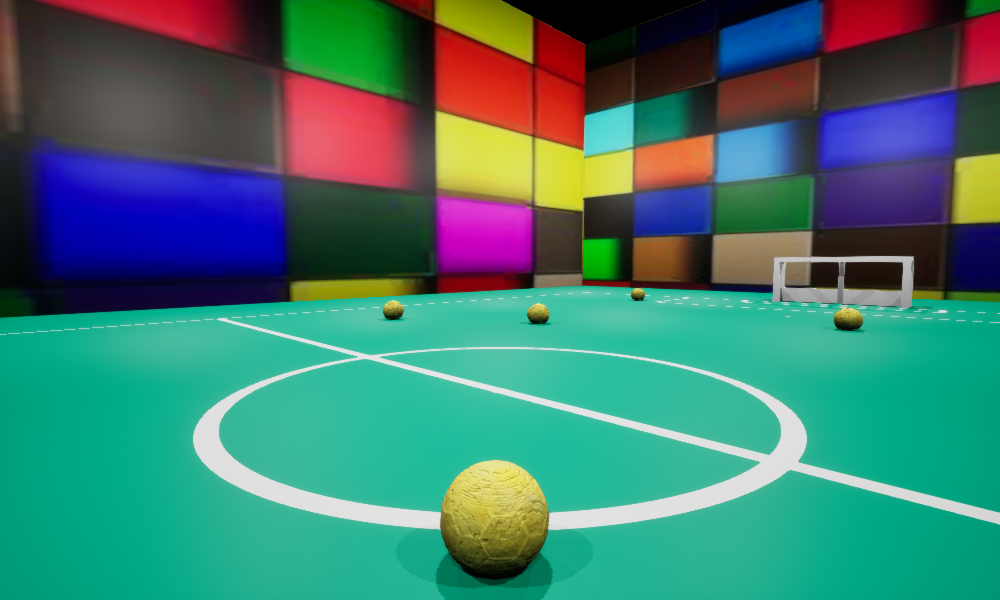b: (440, 460, 548, 577), (834, 308, 862, 330), (527, 303, 548, 323), (383, 300, 403, 318), (631, 288, 644, 299)
g: (772, 256, 913, 308)
